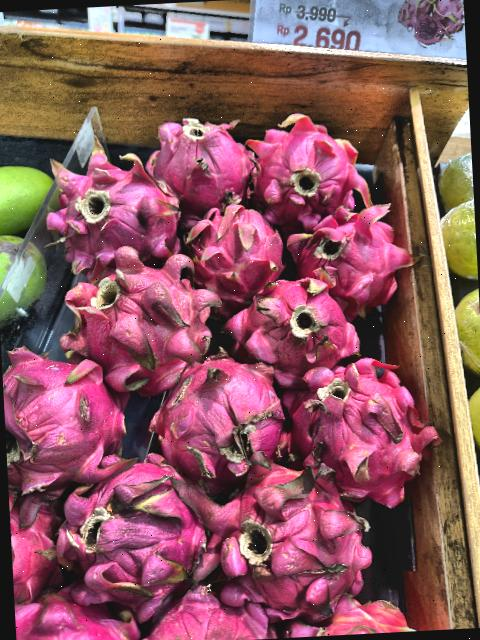buah-naga-matang: (190, 456, 373, 616), (51, 450, 206, 606), (61, 238, 218, 392), (278, 356, 440, 502), (0, 328, 134, 504), (35, 144, 184, 261), (154, 354, 288, 484), (221, 267, 362, 383), (278, 200, 418, 316), (241, 107, 366, 226), (138, 110, 262, 218), (176, 198, 294, 302), (136, 579, 271, 640), (14, 582, 144, 640), (8, 480, 60, 594), (278, 596, 411, 638)
